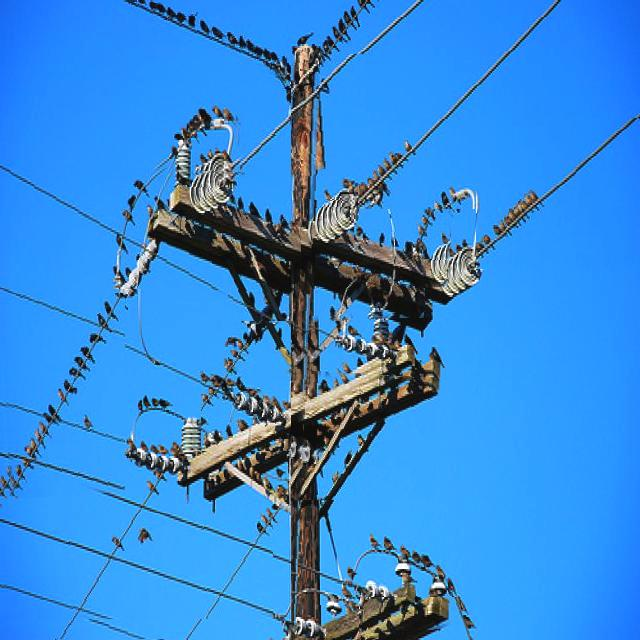crossarm: (146, 201, 426, 321), (172, 174, 450, 290), (201, 376, 440, 500), (193, 350, 412, 475), (317, 585, 412, 640), (359, 597, 460, 634)
pole: (291, 51, 312, 638)
wire: (0, 161, 286, 321), (358, 0, 560, 209), (0, 452, 291, 567), (0, 513, 273, 618), (8, 293, 125, 499), (0, 288, 226, 394), (476, 118, 638, 265), (239, 54, 359, 175), (131, 4, 288, 79), (0, 587, 152, 640)
